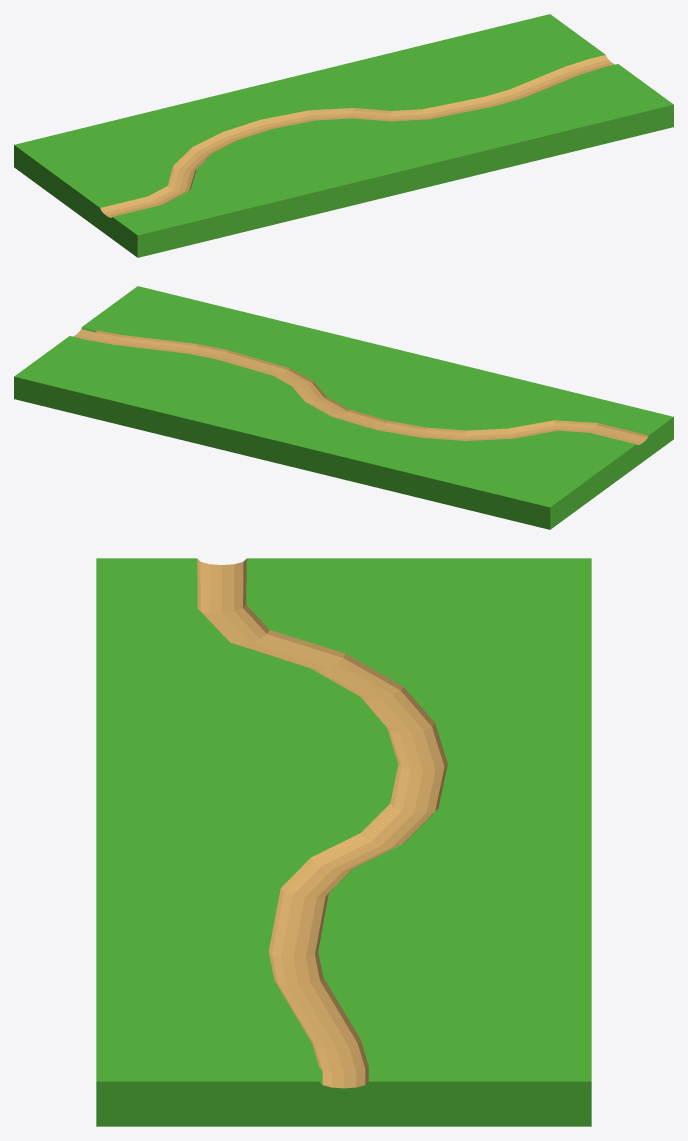
Rendered from way.fbx.
3 views of the same model, one above another, from view 1: azimuth 30°, elevation 25°; view 2: azimuth 150°, elevation 25°; view 3: azimuth 270°, elevation 25° (orthographic). The views are drawn at different scales.
Visible parts, largest first — view 1: ground.004; view 2: ground.004; view 3: ground.004.
Part boxes in pixels (<box>): ground.004: <box>14,14,673,257</box>; ground.004: <box>14,286,673,529</box>; ground.004: <box>96,558,591,1126</box>.
Bounding box in the file's own units: 5000 × 200 × 2000.
